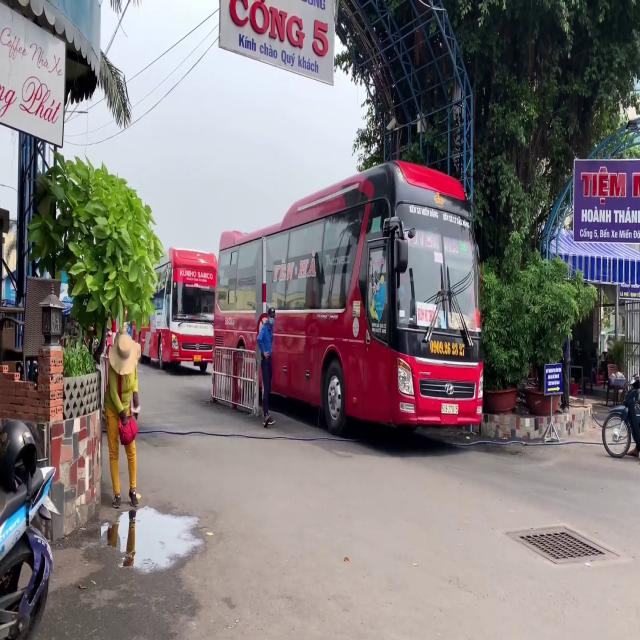bien_trang: (441, 403, 458, 415)
bien_vang: (194, 353, 201, 362)
